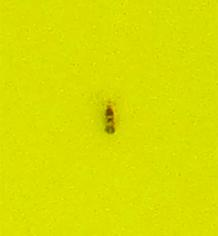Hemiptera: (100, 100, 118, 136)
